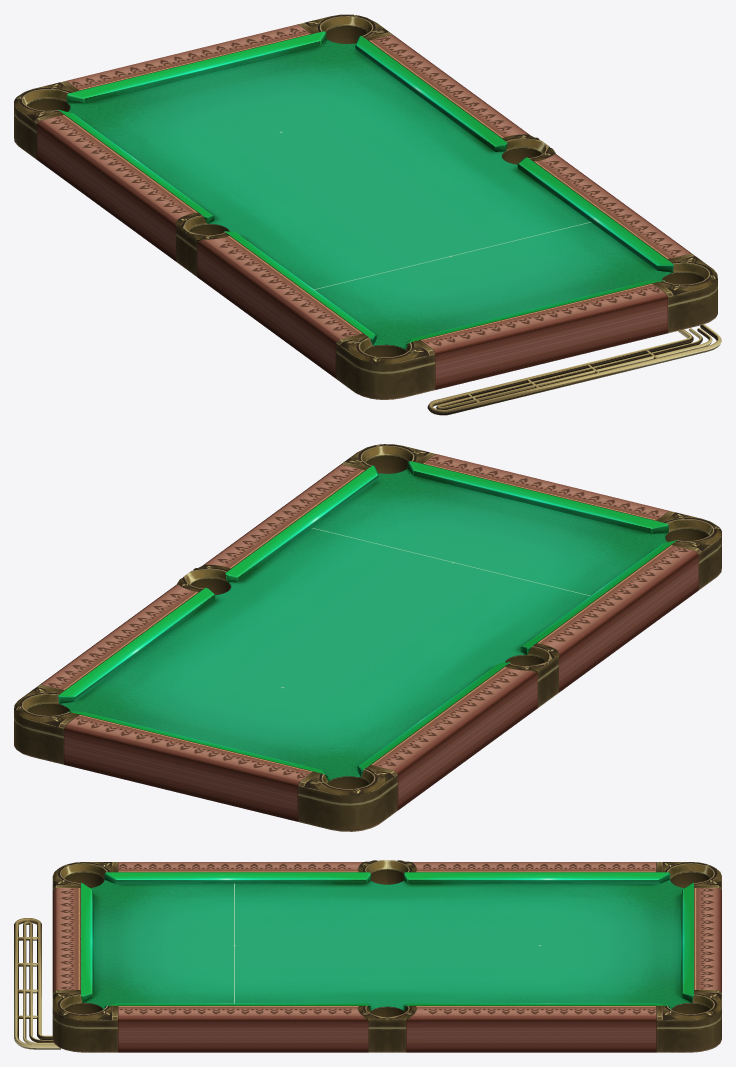
3 renders of one model, top to bottom at view 1: azimuth 30°, elevation 25°; view 2: azimuth 150°, elevation 25°; view 3: azimuth 270°, elevation 25°, orthographic. The views are drawn at different scales.
Parts seen in each view (by area): view 1: pasted__zqt5; view 2: pasted__zqt5; view 3: pasted__zqt5.
Boxes of the visible parts, <box> form: pasted__zqt5: <box>14,14,721,415</box>; pasted__zqt5: <box>14,444,721,831</box>; pasted__zqt5: <box>14,860,721,1052</box>.
Size of the model in its own units: 9.69 by 1.2 by 18.4.
Materials: 1 (1 with a texture image).
